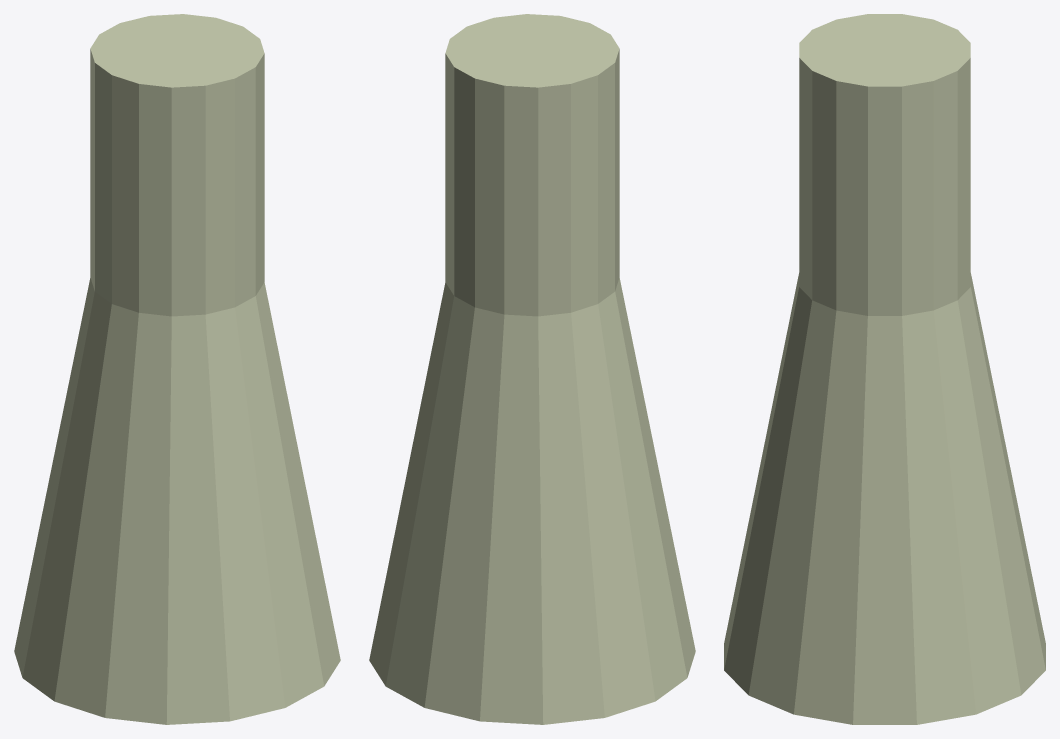
The model's file is Alnair_Engine_1_Collider.obj.
The picture shows the model from 3 angles, left to right: view 1: azimuth 30°, elevation 25°; view 2: azimuth 150°, elevation 25°; view 3: azimuth 270°, elevation 25°; orthographic projection.
Visible parts, largest first — view 1: Alnair_Engine_1_Collider1, Alnair_Engine_1_Collider2; view 2: Alnair_Engine_1_Collider1, Alnair_Engine_1_Collider2; view 3: Alnair_Engine_1_Collider1, Alnair_Engine_1_Collider2.
Part boxes in pixels (x1,y1,x2,y2): Alnair_Engine_1_Collider1: (14,278,340,724); Alnair_Engine_1_Collider2: (90,14,264,316); Alnair_Engine_1_Collider1: (369,278,695,724); Alnair_Engine_1_Collider2: (445,14,619,316); Alnair_Engine_1_Collider1: (724,273,1045,724); Alnair_Engine_1_Collider2: (799,14,970,315).
Bounding box in the file's own units: 0.9375 × 1.95 × 0.9375.
